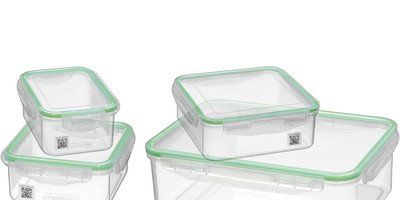PlasticBox: (169, 64, 320, 161), (15, 65, 122, 158)
